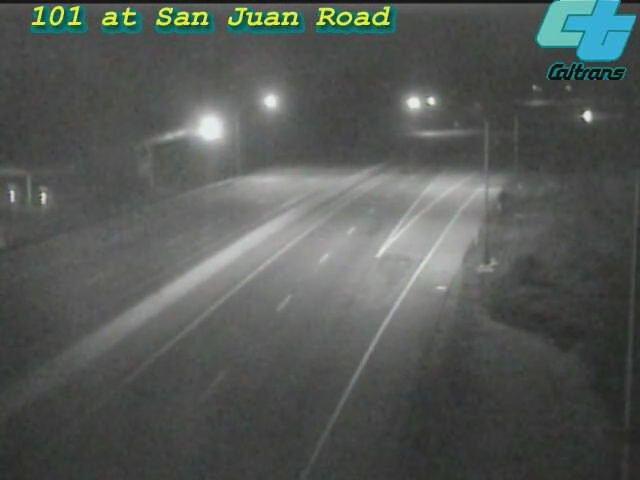vehicle: (563, 90, 613, 140)
